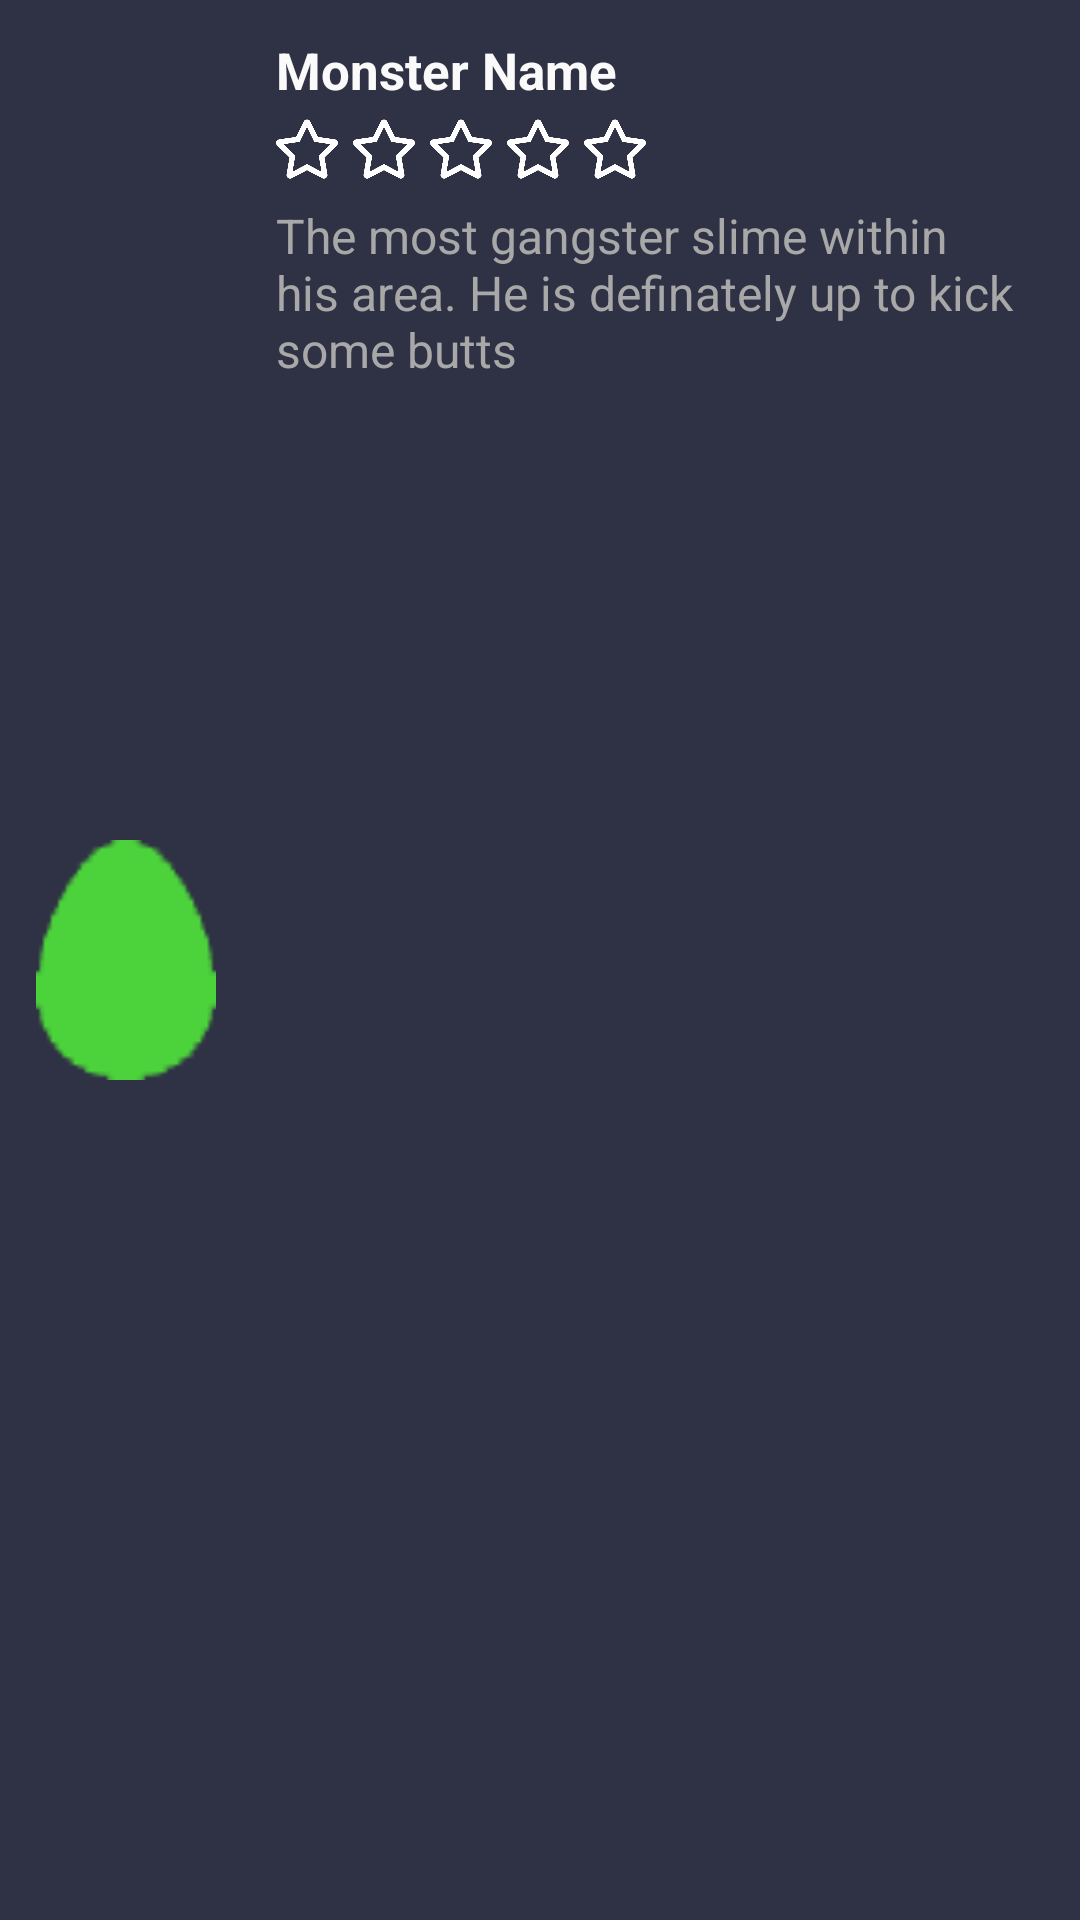

Where icons sit on this 1080 × 1920 app screen, as {"x1": x1, "y1": y1, "x2": x2, "y2": y2}:
egg: {"x1": 36, "y1": 840, "x2": 216, "y2": 1080}
star: {"x1": 276, "y1": 119, "x2": 338, "y2": 179}, {"x1": 353, "y1": 119, "x2": 415, "y2": 179}, {"x1": 430, "y1": 119, "x2": 492, "y2": 179}, {"x1": 507, "y1": 119, "x2": 569, "y2": 179}, {"x1": 584, "y1": 119, "x2": 646, "y2": 179}
